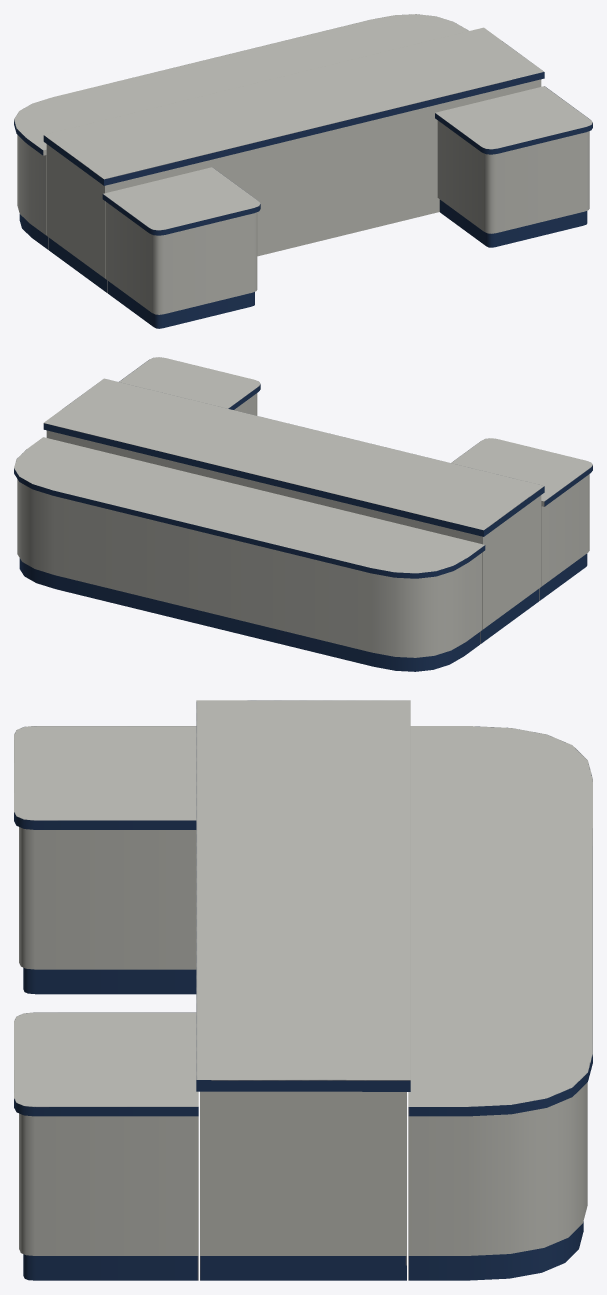
Rendered from xd-kzs-kzt.FBX.
3 views of the same model, one above another, from view 1: azimuth 30°, elevation 25°; view 2: azimuth 150°, elevation 25°; view 3: azimuth 270°, elevation 25° (orthographic). The views are drawn at different scales.
Visible parts, largest first — view 1: xd-kzs-kzt; view 2: xd-kzs-kzt; view 3: xd-kzs-kzt.
Boxes of the visible parts, x1,y1,x2,y2 form: xd-kzs-kzt: (14, 14, 592, 328); xd-kzs-kzt: (14, 357, 592, 671); xd-kzs-kzt: (14, 700, 592, 1280).
Size of the model in its own units: 360 by 89.94 by 231.
